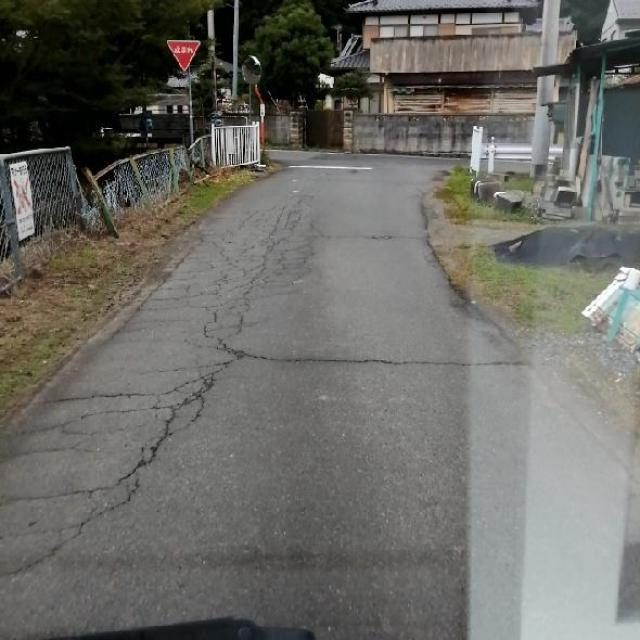Melintang: (228, 339, 538, 381)
Memanjang: (0, 351, 223, 596)
